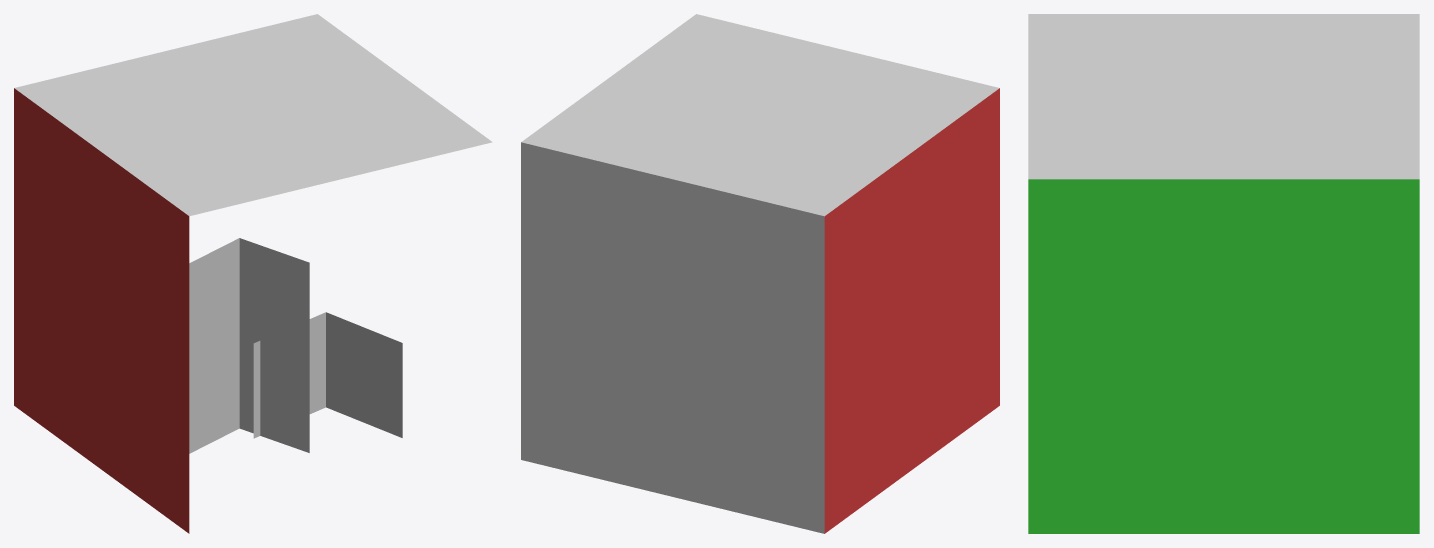
Rendered from cornell_box.gltf.
3 renders of one model, left to right at view 1: azimuth 30°, elevation 25°; view 2: azimuth 150°, elevation 25°; view 3: azimuth 270°, elevation 25°, orthographic. The views are drawn at different scales.
Visible parts, largest first — view 1: LeftWall, Ceiling, TallBox, ShortBox; view 2: BackWall, LeftWall, Ceiling; view 3: RightWall, Ceiling.
Part boxes in pixels (x1,y1,x2,y2): LeftWall: [14, 88, 189, 533]; Ceiling: [14, 14, 492, 216]; TallBox: [189, 238, 309, 453]; ShortBox: [253, 312, 402, 438]; BackWall: [521, 142, 824, 533]; LeftWall: [824, 88, 999, 533]; Ceiling: [521, 14, 999, 216]; RightWall: [1028, 179, 1419, 533]; Ceiling: [1028, 14, 1419, 179].
Size of the model in its own units: 4 by 4 by 4.
